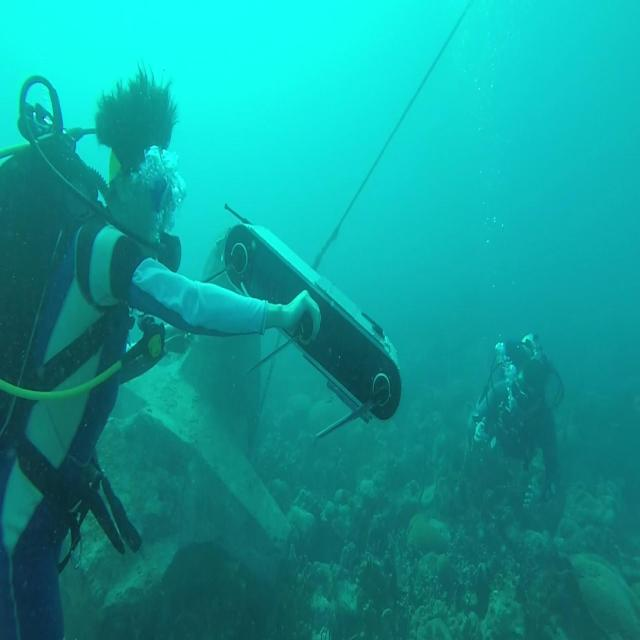human: (0, 60, 322, 638), (466, 331, 565, 535)
